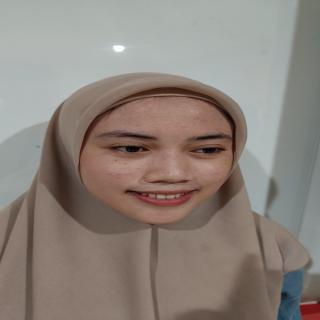Senang: (75, 90, 249, 236)
